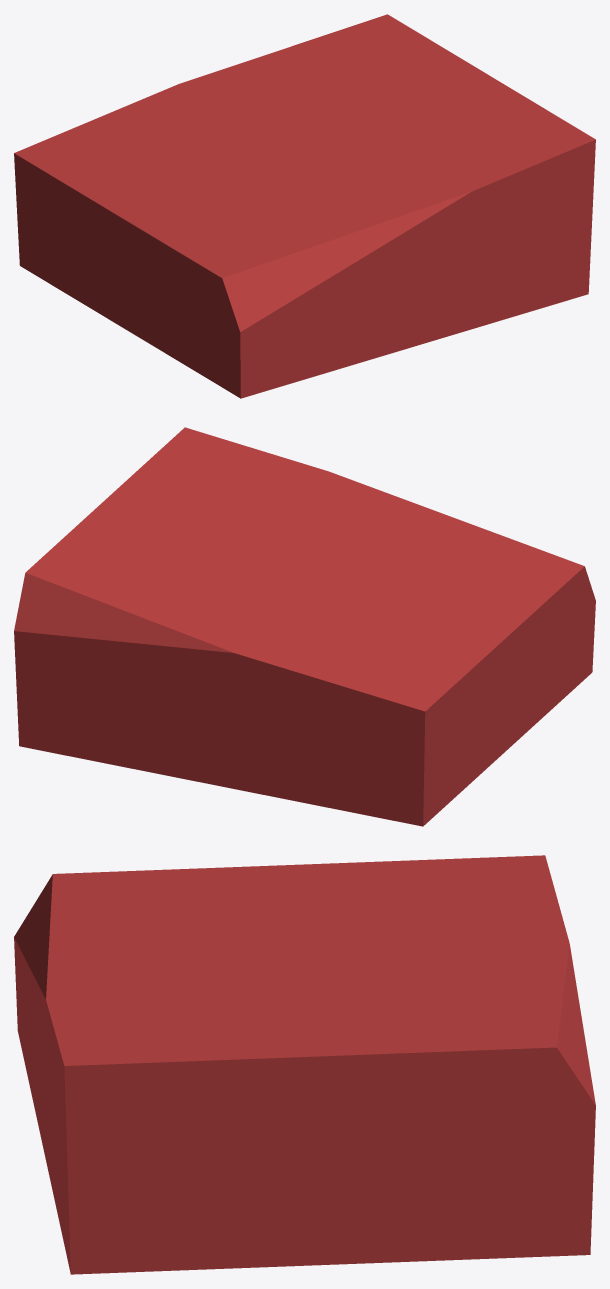
File: ea_arch_wall03_rubble_01b_pre__19__1_lev1.glb
3 renders of one model, top to bottom at view 1: azimuth 30°, elevation 25°; view 2: azimuth 150°, elevation 25°; view 3: azimuth 270°, elevation 25°, orthographic. The views are drawn at different scales.
Parts seen in each view (by area): view 1: ea_arch_wall03_rubble_01b_pre__19__1_lev1; view 2: ea_arch_wall03_rubble_01b_pre__19__1_lev1; view 3: ea_arch_wall03_rubble_01b_pre__19__1_lev1.
Part boxes in pixels (x1,y1,x2,y2): ea_arch_wall03_rubble_01b_pre__19__1_lev1: (14,14,595,398); ea_arch_wall03_rubble_01b_pre__19__1_lev1: (14,427,595,826); ea_arch_wall03_rubble_01b_pre__19__1_lev1: (14,855,595,1274).
Bounding box in the file's own units: 0.5629 × 0.2066 × 0.5123.
Materials: 1 (1 with a texture image).
